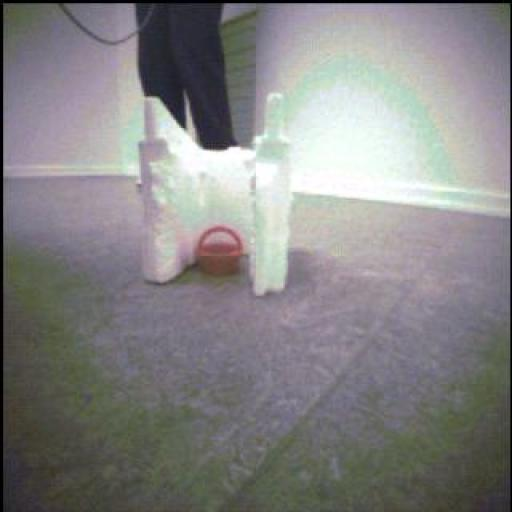Bucket: (196, 223, 244, 276)
